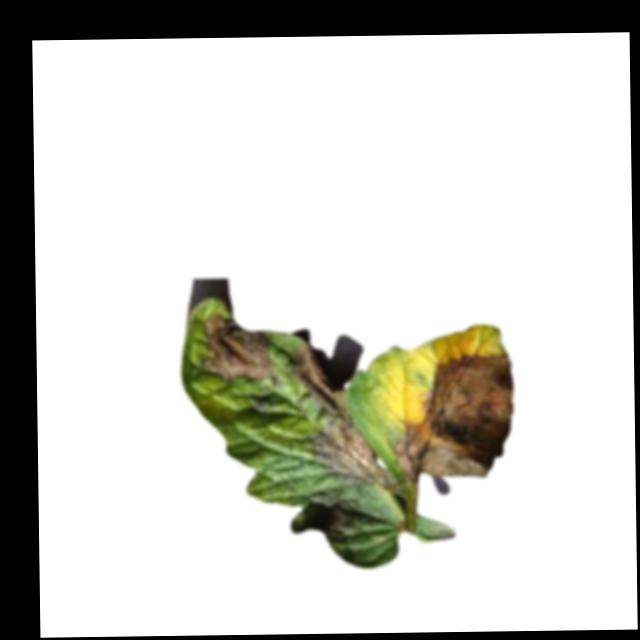Late_blight: (288, 341, 402, 498), (388, 351, 518, 484), (200, 310, 280, 383), (306, 492, 363, 538)
